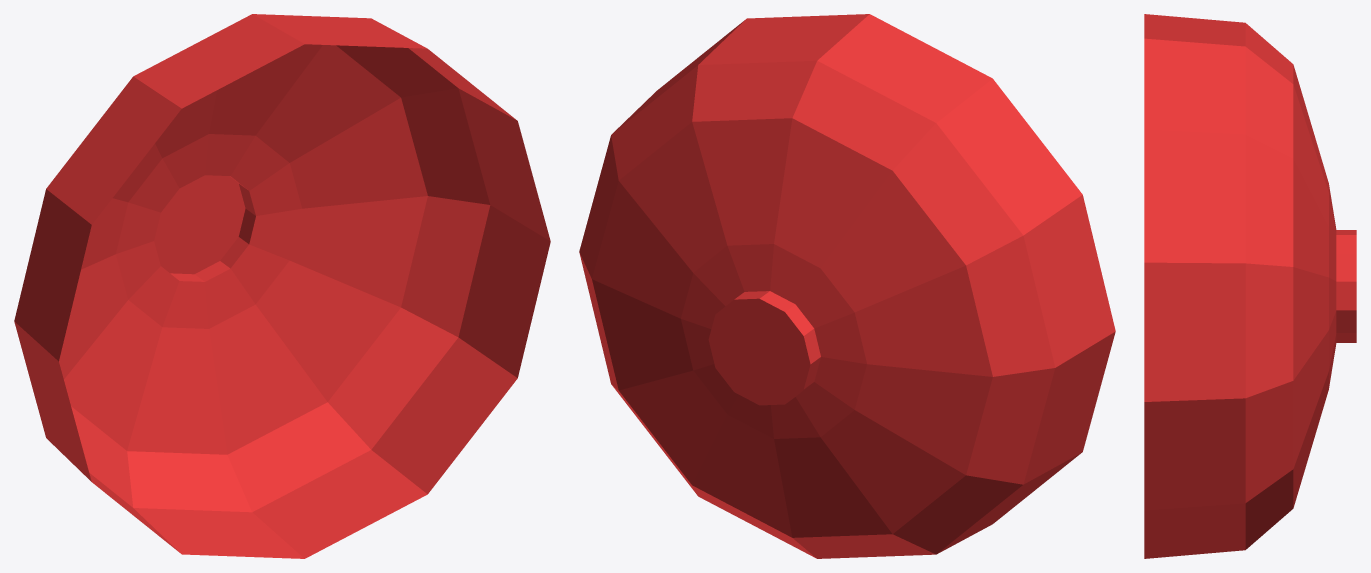
File: FireAlarm.dae
3 views of the same model, side by side, from view 1: azimuth 30°, elevation 25°; view 2: azimuth 150°, elevation 25°; view 3: azimuth 270°, elevation 25° (orthographic). The views are drawn at different scales.
Visible parts, largest first — view 1: FireAlarm; view 2: FireAlarm; view 3: FireAlarm.
Boxes of the visible parts, box(x1,y1,x2,y2) form: FireAlarm: box(14, 14, 550, 558); FireAlarm: box(579, 14, 1115, 558); FireAlarm: box(1144, 14, 1356, 558).
Bounding box in the file's own units: 0.1389 × 0.0539 × 0.1389.
